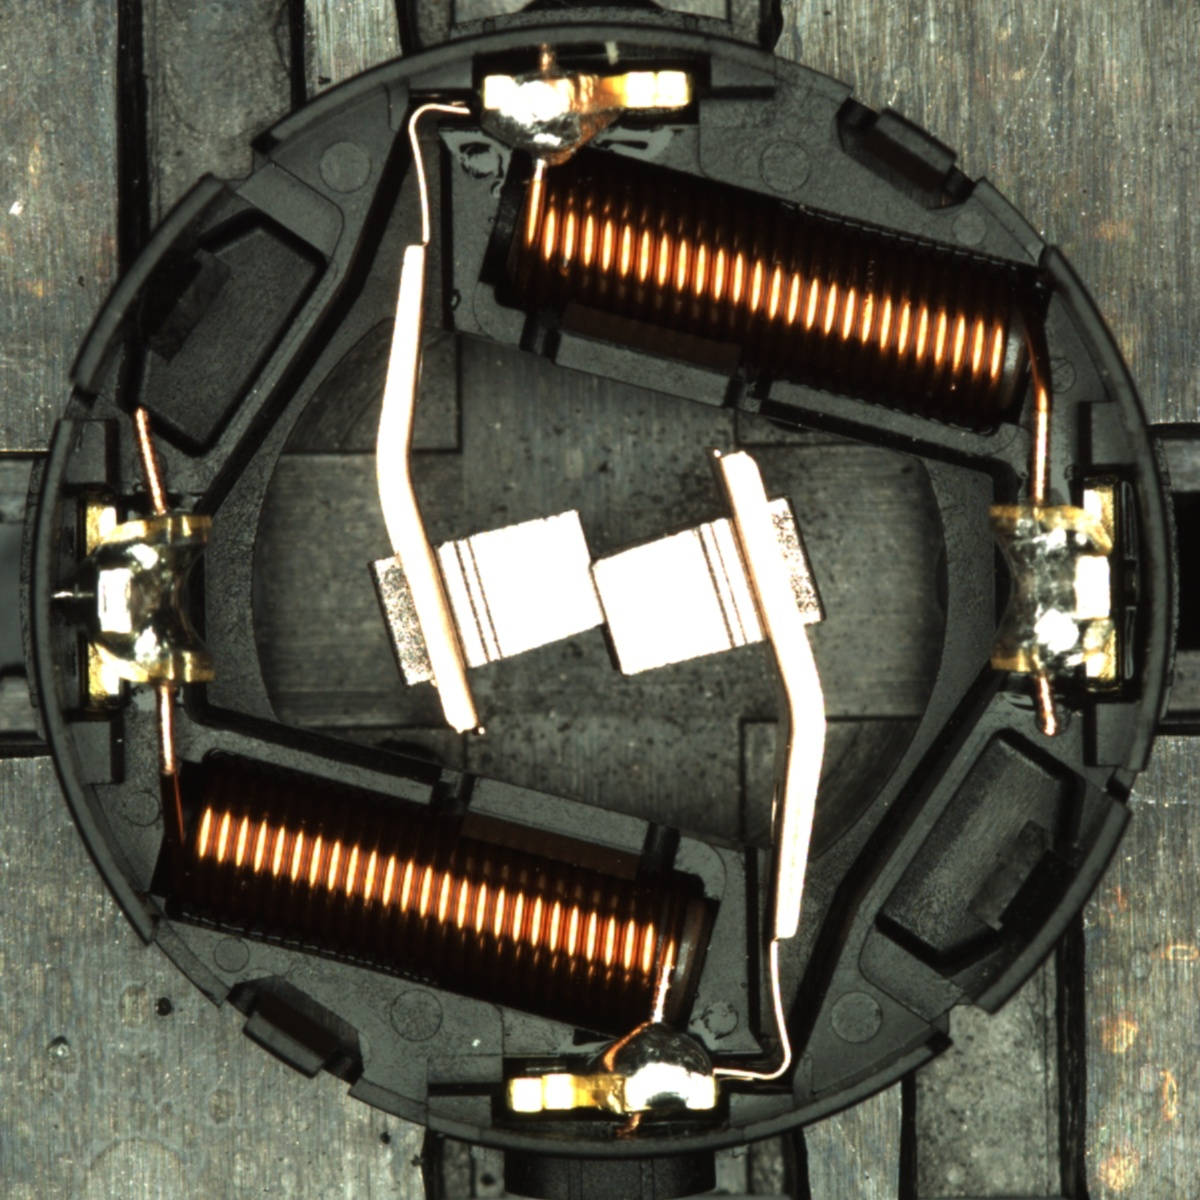1: (249, 31, 479, 255), (708, 929, 937, 1153)
2: (708, 31, 937, 255), (249, 929, 479, 1153)
3: (937, 703, 1167, 929), (21, 255, 249, 479)
4: (708, 703, 937, 929), (249, 255, 479, 479)
5: (479, 815, 708, 1041), (479, 143, 708, 367)
6: (249, 703, 479, 929), (708, 255, 937, 479)
7: (21, 703, 249, 929), (937, 255, 1167, 479)
cacbon: (395, 498, 792, 685)
chau_dien: (980, 486, 1123, 684), (80, 498, 220, 699)
tay_choi: (479, 67, 696, 169), (505, 1019, 719, 1118)
thanh_de: (951, 786, 1137, 1030), (58, 163, 243, 405)
vun_chi: (49, 568, 96, 623)
